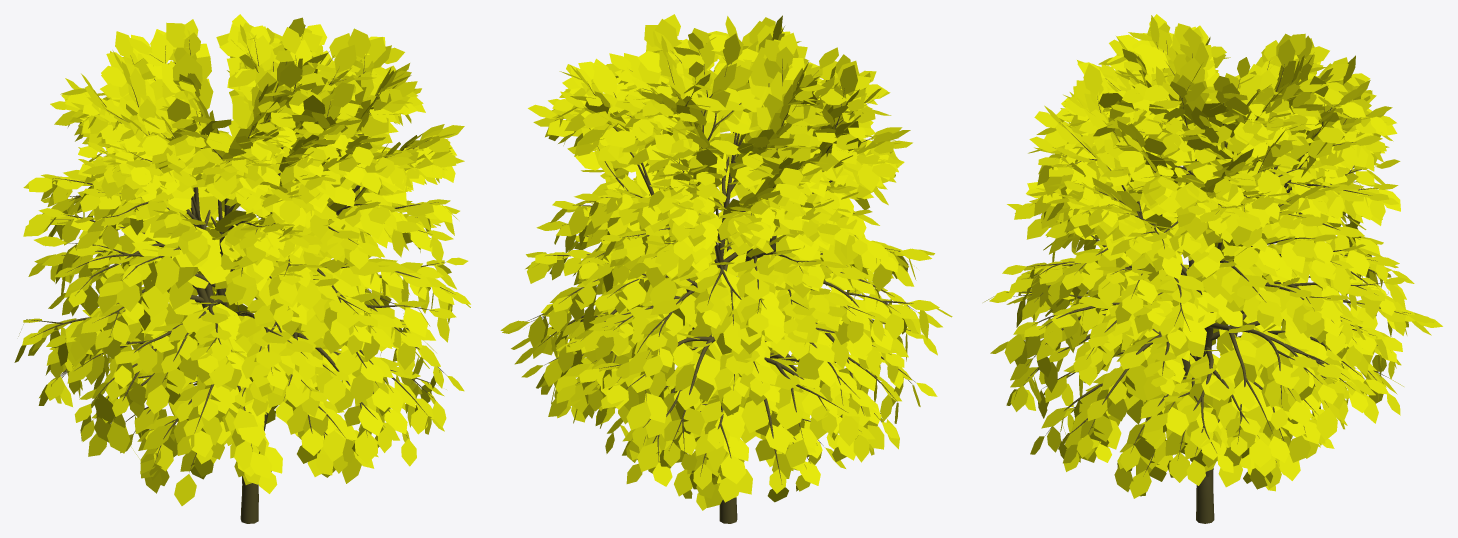
File: yellow_maple_tree.fbx
3 renders of one model, left to right at view 1: azimuth 30°, elevation 25°; view 2: azimuth 150°, elevation 25°; view 3: azimuth 270°, elevation 25°, orthographic.
Visible parts, largest first — view 1: leaves, tree; view 2: leaves, tree; view 3: leaves, tree.
Part boxes in pixels (x1,y1,x2,y2): leaves: (14, 14, 470, 505); tree: (26, 40, 453, 523); leaves: (500, 14, 952, 510); tree: (526, 49, 916, 523); leaves: (983, 14, 1442, 498); tree: (1006, 40, 1410, 523).
Bounding box in the file's own units: 29.68 × 35.55 × 31.3.
